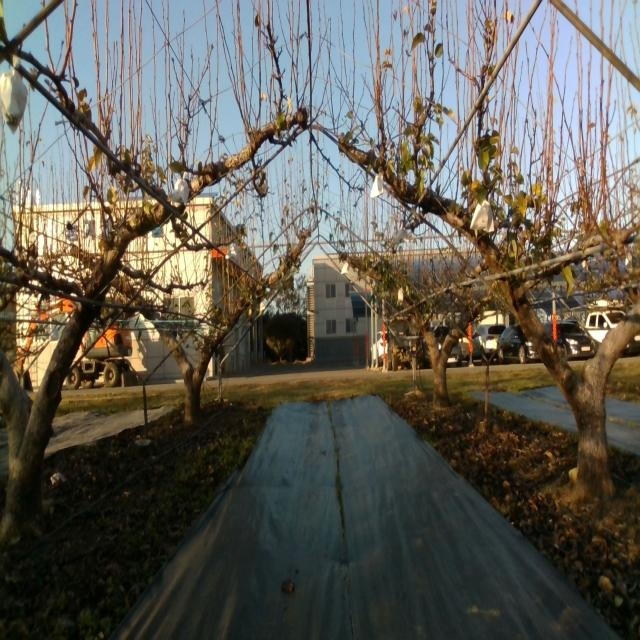pearbags: (0, 53, 29, 136), (470, 200, 494, 233), (170, 171, 189, 208), (370, 171, 384, 199), (394, 224, 410, 244), (226, 243, 240, 263)
